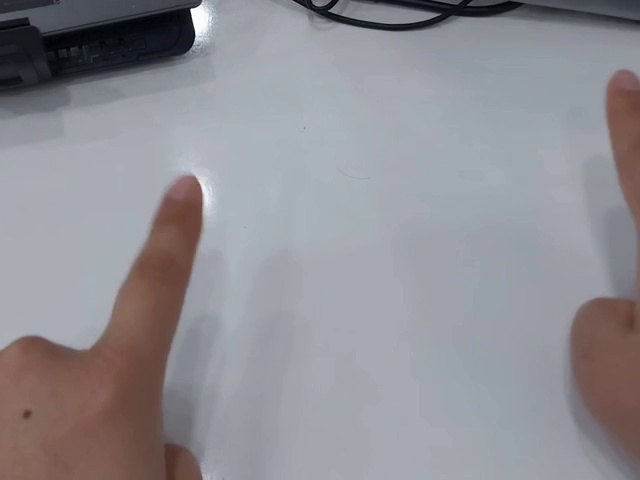fingers: (152, 174, 204, 230), (602, 69, 640, 120)
